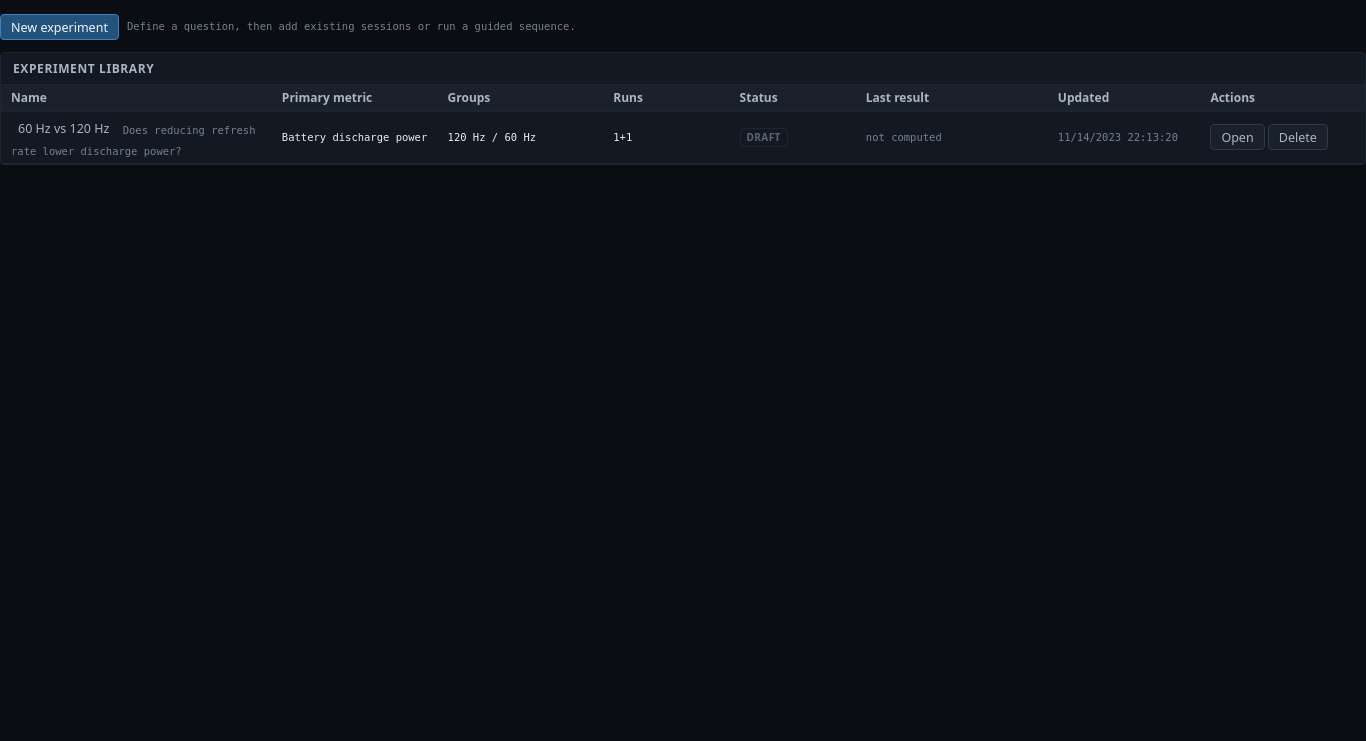
it: ExperimentsPage › renders the result language, confounders and the paired plot
What coordinates should you click on to do the following:
click the button "60 Hz vs 120 Hz"
I would click on:
 (64, 129)
Its box is top-left (11, 116), bottom-right (116, 142).
(page scrolled)
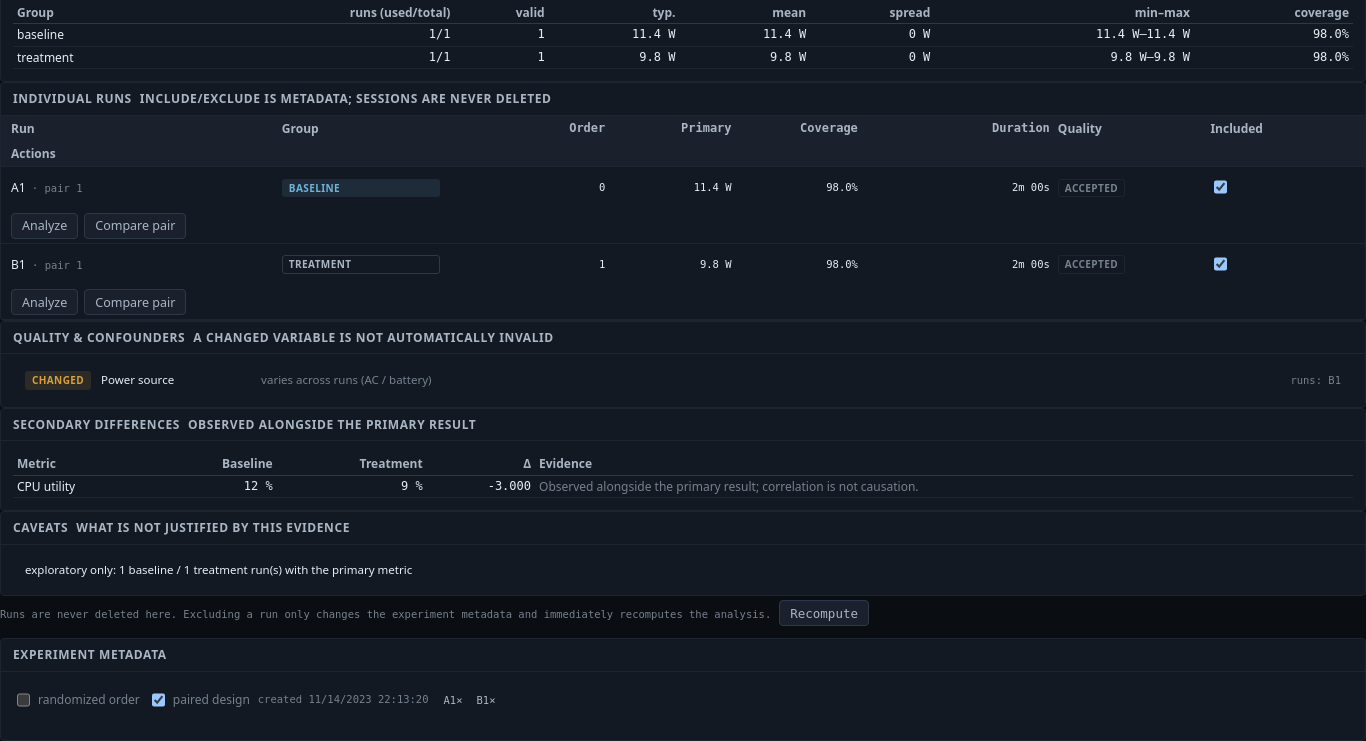
Result: the text "Quality & confounders" is shown at top-left (13, 329), bottom-right (185, 346)
Result: the text "Power source" is shown at top-left (101, 372), bottom-right (174, 388)
Result: the text "Secondary differences" is shown at top-left (13, 416), bottom-right (180, 433)
